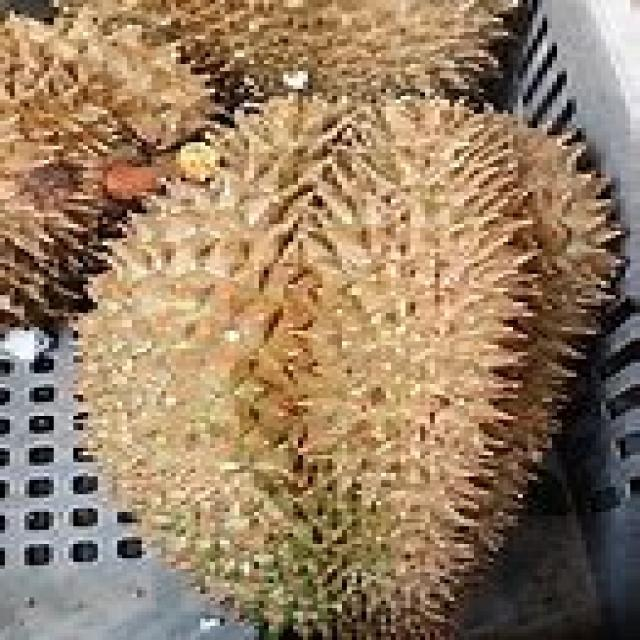mature: (82, 98, 617, 640)
